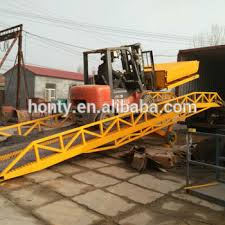Pallet Jack: (67, 43, 201, 130)
Yard Ramp: (1, 91, 224, 182)
